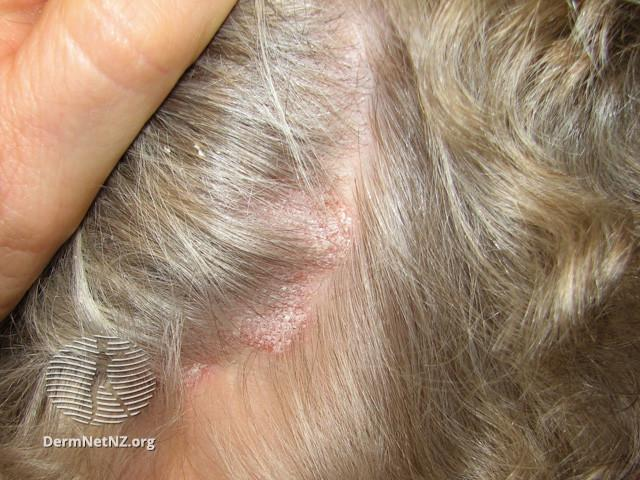Psoriasis: (145, 17, 385, 473)
